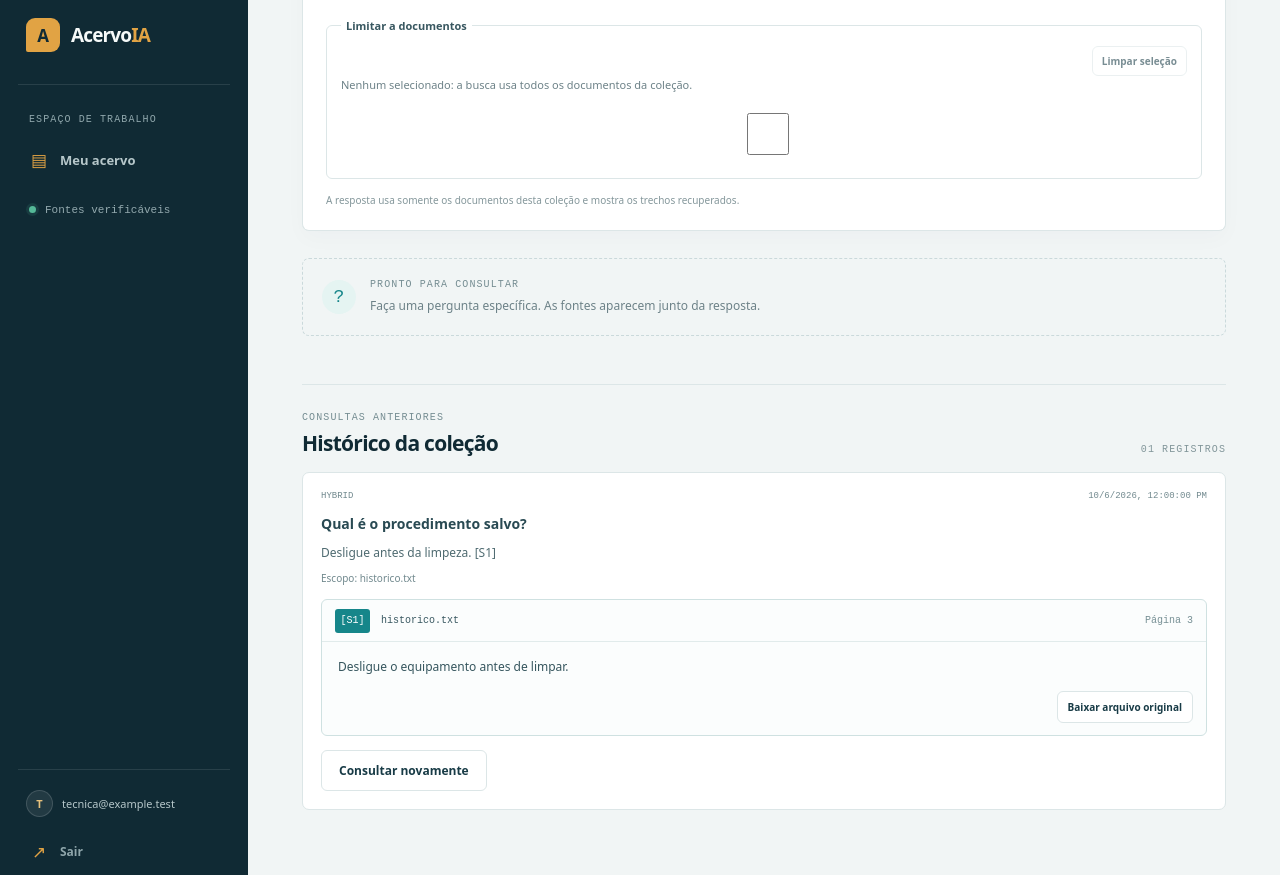
Test: AcervoIA web flows › shows saved questions with sources and lets the user ask one again
(page scrolled)
Expected: the heading "Qual é o procedimento salvo?" is shown, [321,514,527,533]
Expected: the text "historico.txt" is shown, [381,615,459,626]
Click the button "Consultar novamente".
click(404, 771)  # box [321,750,487,791]
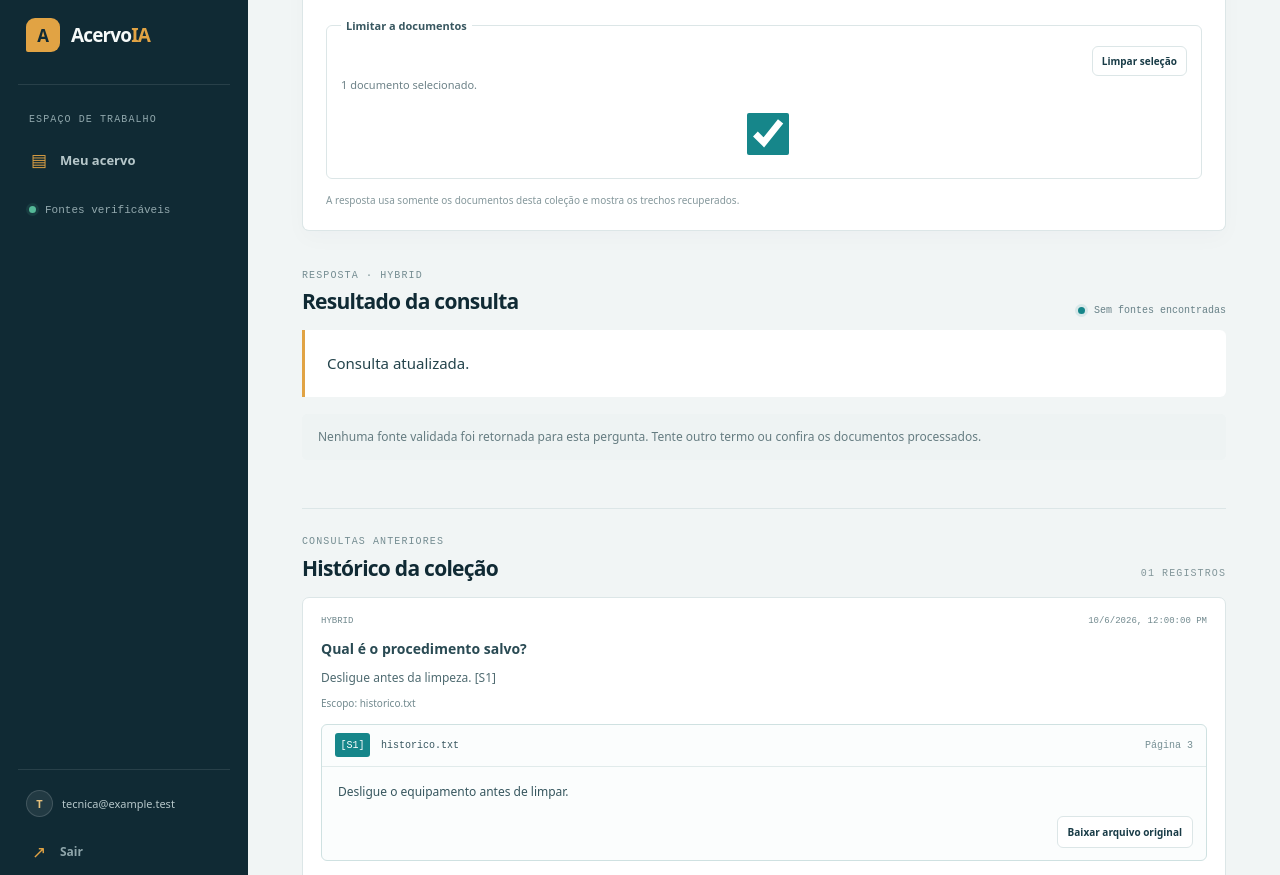
Expected: the text "Consulta atualizada." is shown, [327,353,469,373]
